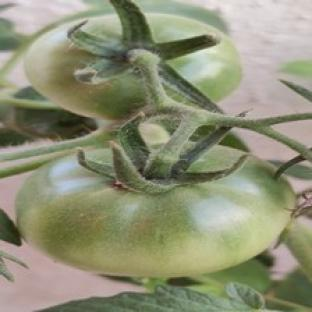Tomato: (16, 156, 295, 277), (147, 13, 240, 101)
